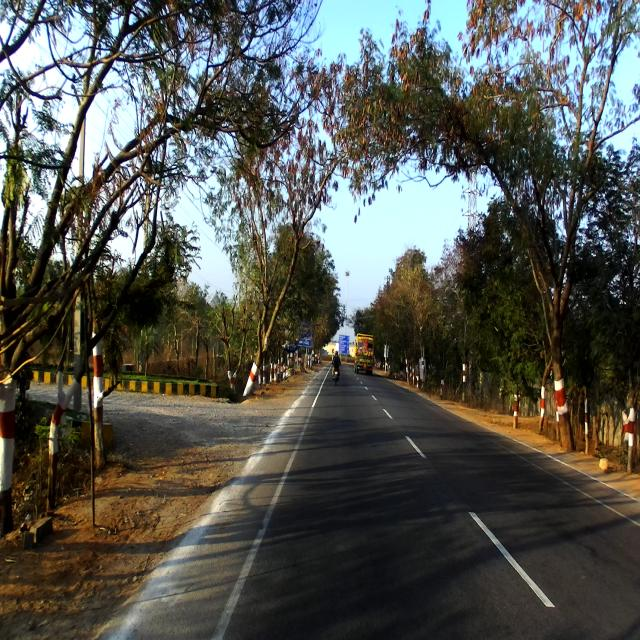tree ahead at: (534, 266, 586, 454), (87, 308, 117, 476)
